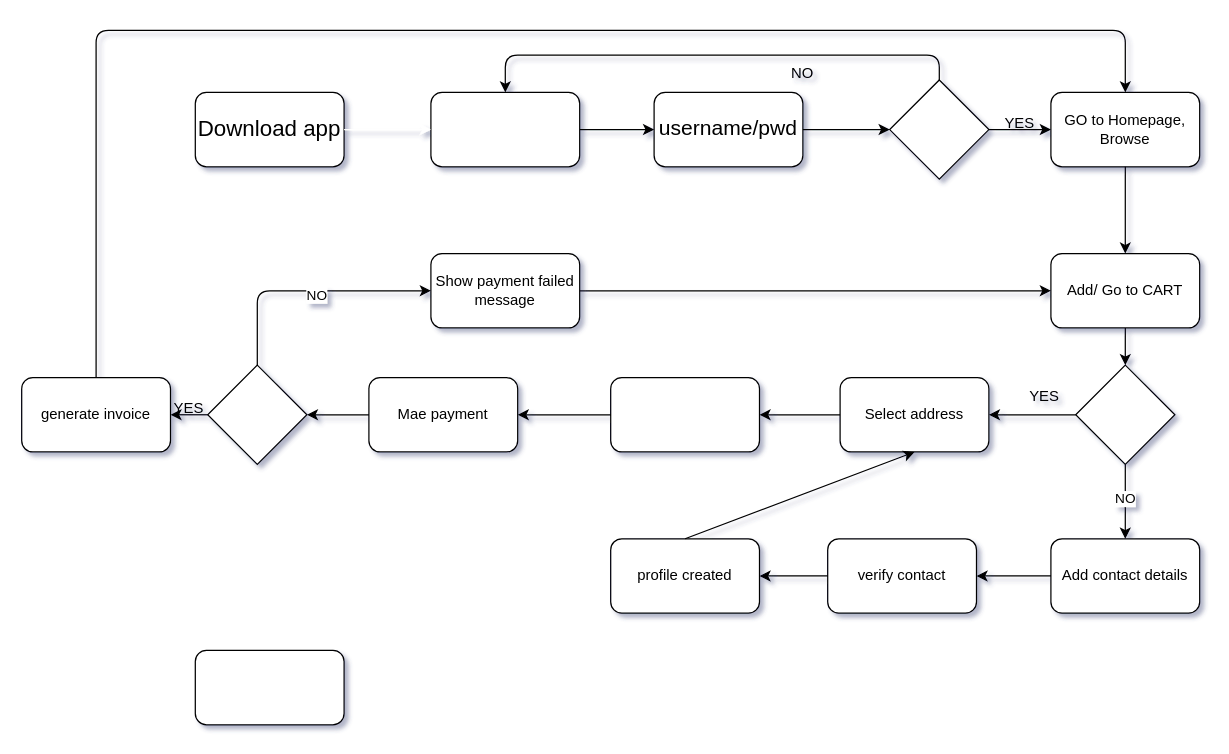
Image size: 1229x754. Some labels were removed from this diagram. Each missing label, with the centre of its shape:
"If correct credentials" goes at (938,129).
"Is profile complete" goes at (1124,414).
"Login" goes at (505,129).
"shipping details" goes at (684,414).
"Success" goes at (256,414).
